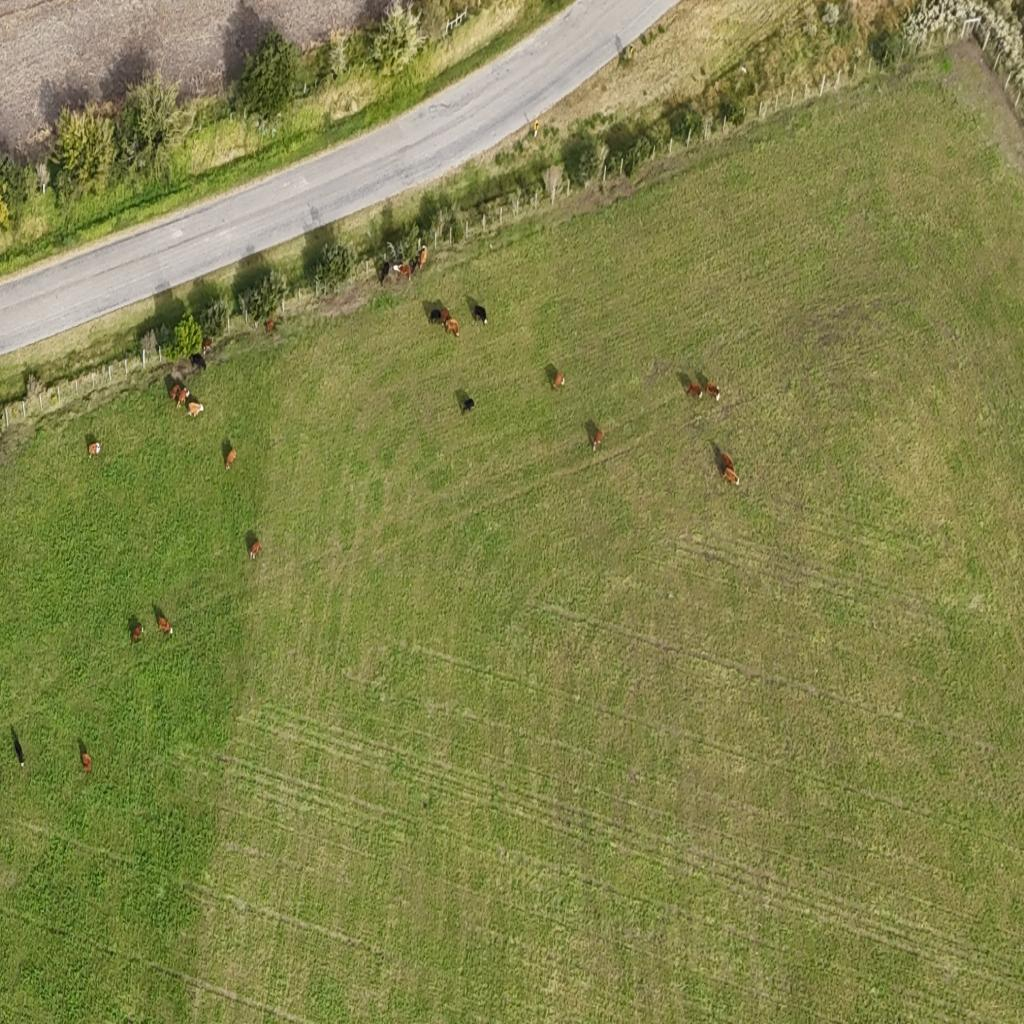cow: (721, 468, 742, 490), (392, 262, 412, 283), (156, 616, 174, 638), (444, 316, 460, 339), (704, 381, 720, 404), (590, 428, 604, 454), (174, 385, 189, 409), (686, 380, 702, 402), (722, 446, 736, 470), (416, 244, 428, 272), (186, 401, 204, 419), (190, 352, 206, 372), (14, 736, 24, 768), (378, 261, 390, 286), (472, 306, 486, 326), (225, 448, 237, 471), (130, 622, 142, 644), (552, 370, 565, 390), (249, 540, 261, 560), (81, 752, 92, 773), (429, 308, 443, 324), (88, 440, 100, 458), (462, 397, 475, 413), (174, 366, 186, 382), (202, 337, 212, 355), (265, 318, 275, 336)
